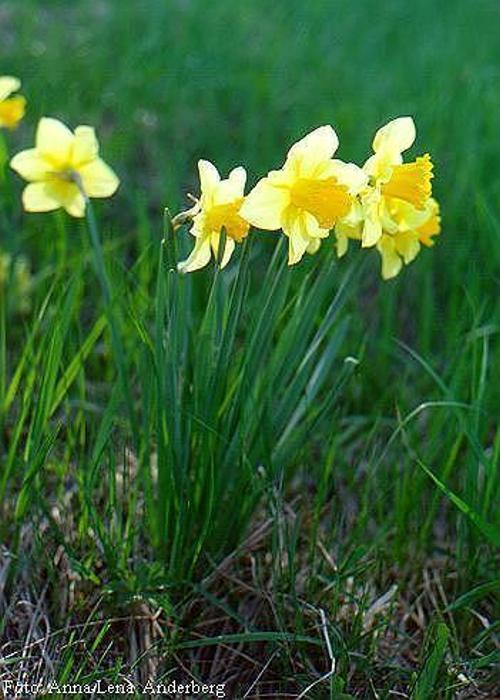flower1: (239, 125, 365, 269), (359, 117, 441, 279), (10, 116, 121, 218), (175, 159, 254, 276)
